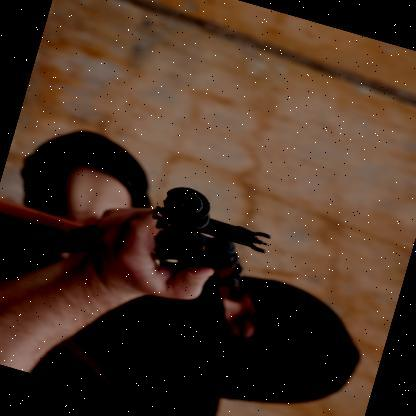rifle: (94, 163, 292, 317)
